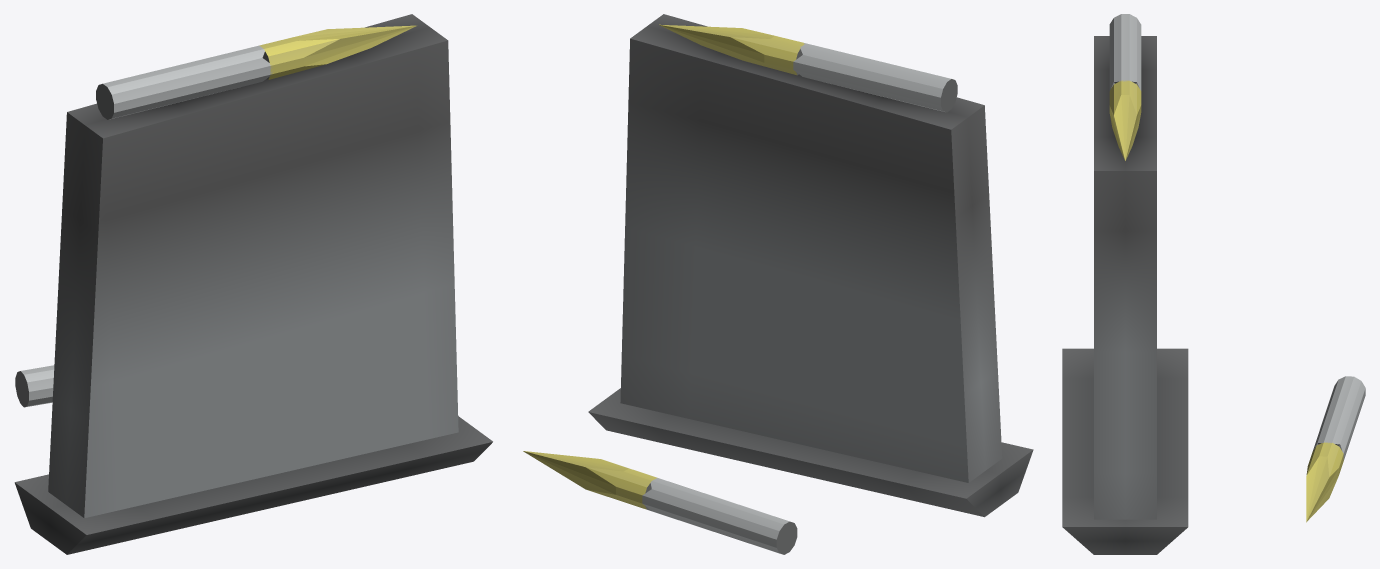
File: AR Clip.fbx
The picture shows the model from 3 angles, left to right: view 1: azimuth 30°, elevation 25°; view 2: azimuth 150°, elevation 25°; view 3: azimuth 270°, elevation 25°; orthographic projection. The views are drawn at different scales.
Parts seen in each view (by area): view 1: cuboid, cuboid_1, cone_1, cone, cone_2; view 2: cuboid, cuboid_1, cone_1, cone_2, cone, cone_3; view 3: cuboid, cuboid_1, cone_2, cone_1, cone_3, cone.
Part boxes in pixels (left/top/right/bottom): cuboid: left=48, top=14, right=458, bottom=518; cuboid_1: left=14, top=416, right=492, bottom=554; cone_1: left=96, top=45, right=272, bottom=119; cone: left=259, top=25, right=416, bottom=79; cone_2: left=15, top=365, right=54, bottom=407; cuboid: left=620, top=14, right=1002, bottom=482; cuboid_1: left=588, top=388, right=1033, bottom=517; cone_1: left=793, top=43, right=957, bottom=112; cone_2: left=642, top=478, right=797, bottom=554; cone: left=659, top=24, right=804, bottom=75; cone_3: left=523, top=451, right=657, bottom=510; cuboid: left=1094, top=36, right=1156, bottom=519; cuboid_1: left=1062, top=348, right=1188, bottom=554; cone_2: left=1312, top=376, right=1365, bottom=460; cone_1: left=1109, top=14, right=1141, bottom=90; cone_3: left=1306, top=442, right=1343, bottom=522; cone: left=1109, top=80, right=1141, bottom=160.
Size of the model in its own units: 16.45 by 17.13 by 12.02.
Materials: 1 (1 with a texture image).
